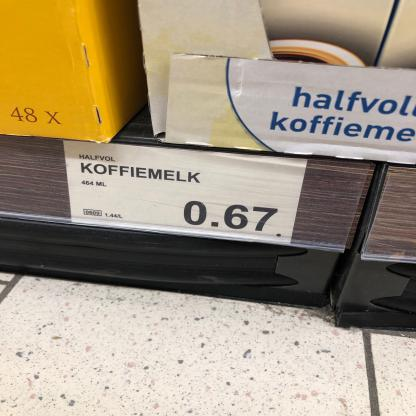prtg: (63, 141, 310, 246)
